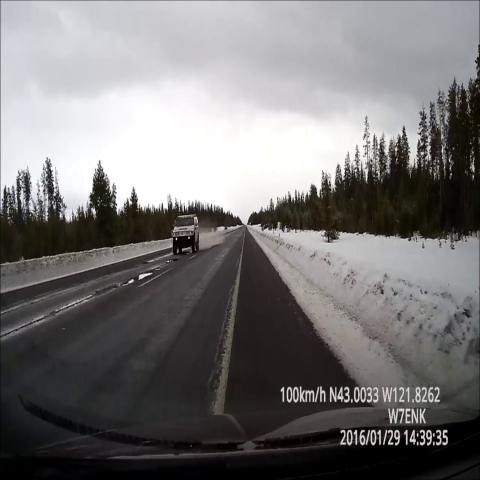pothole: (113, 248, 184, 296), (87, 277, 119, 309)
